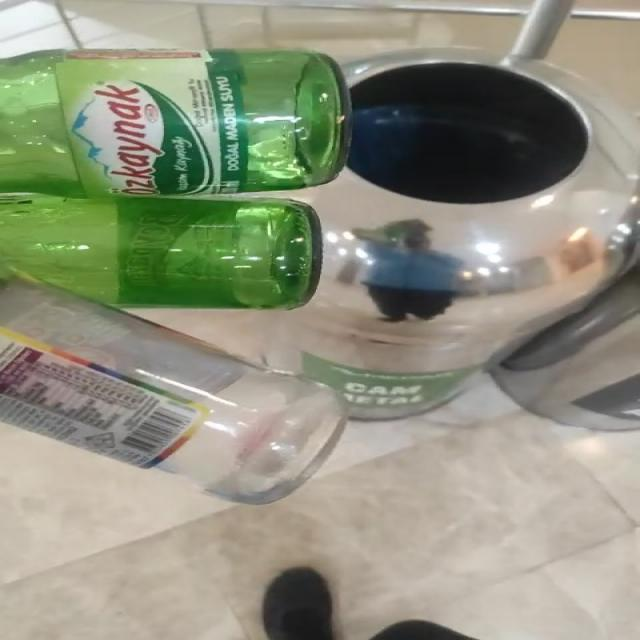Glass: (0, 49, 349, 504)
